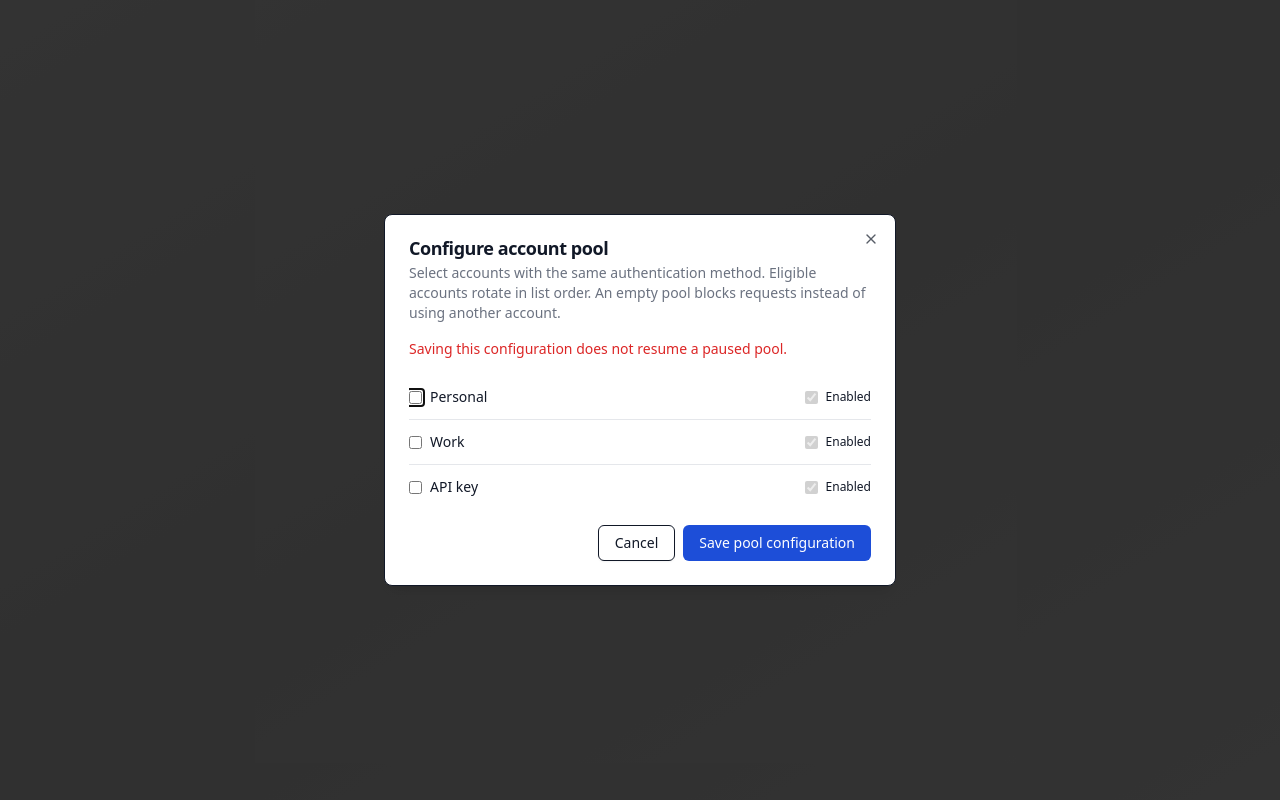
Test: account pool configuration dialog › keeps edits and the dialog on failure without exposing upstream details
The image size is (1280, 800).
Click the checkbox labelled "Personal" at (416, 397), box [409,390,422,404]
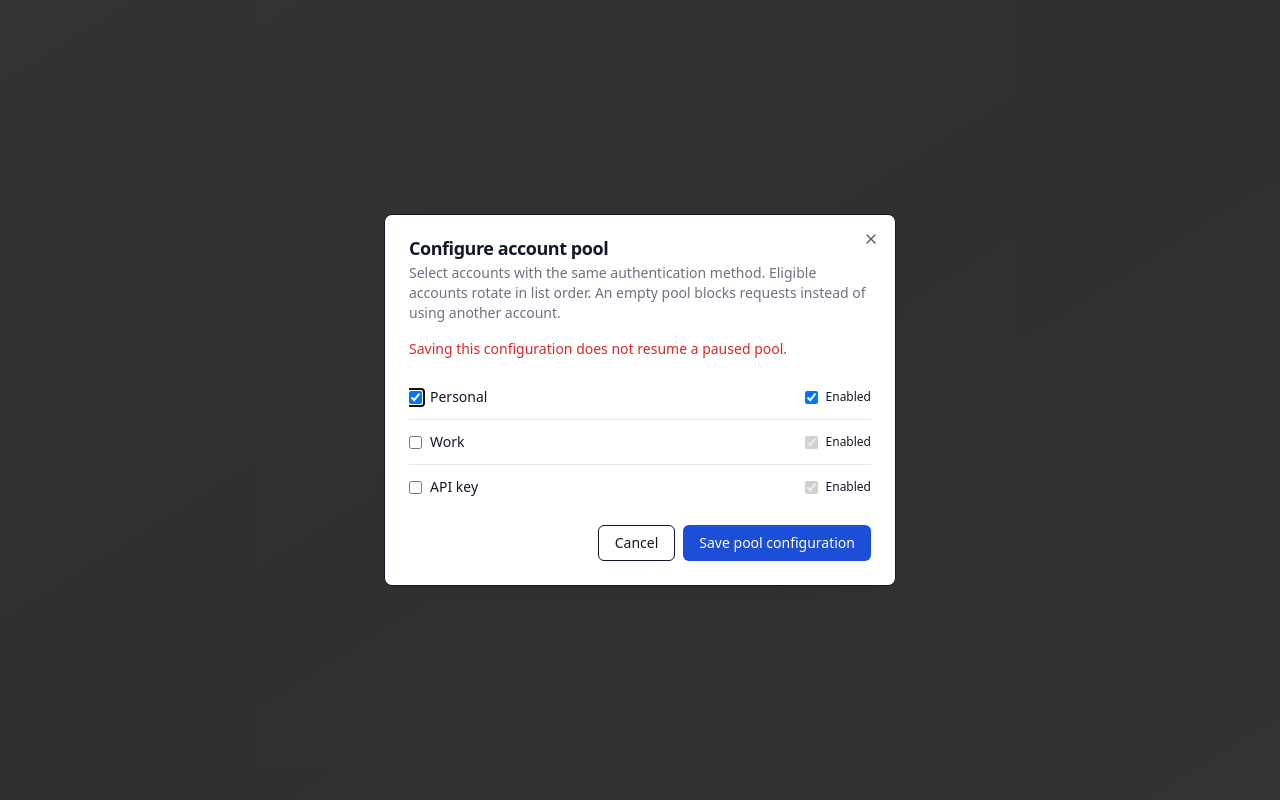
Click the button "Save pool configuration" at (777, 543), box [683,525,871,561]
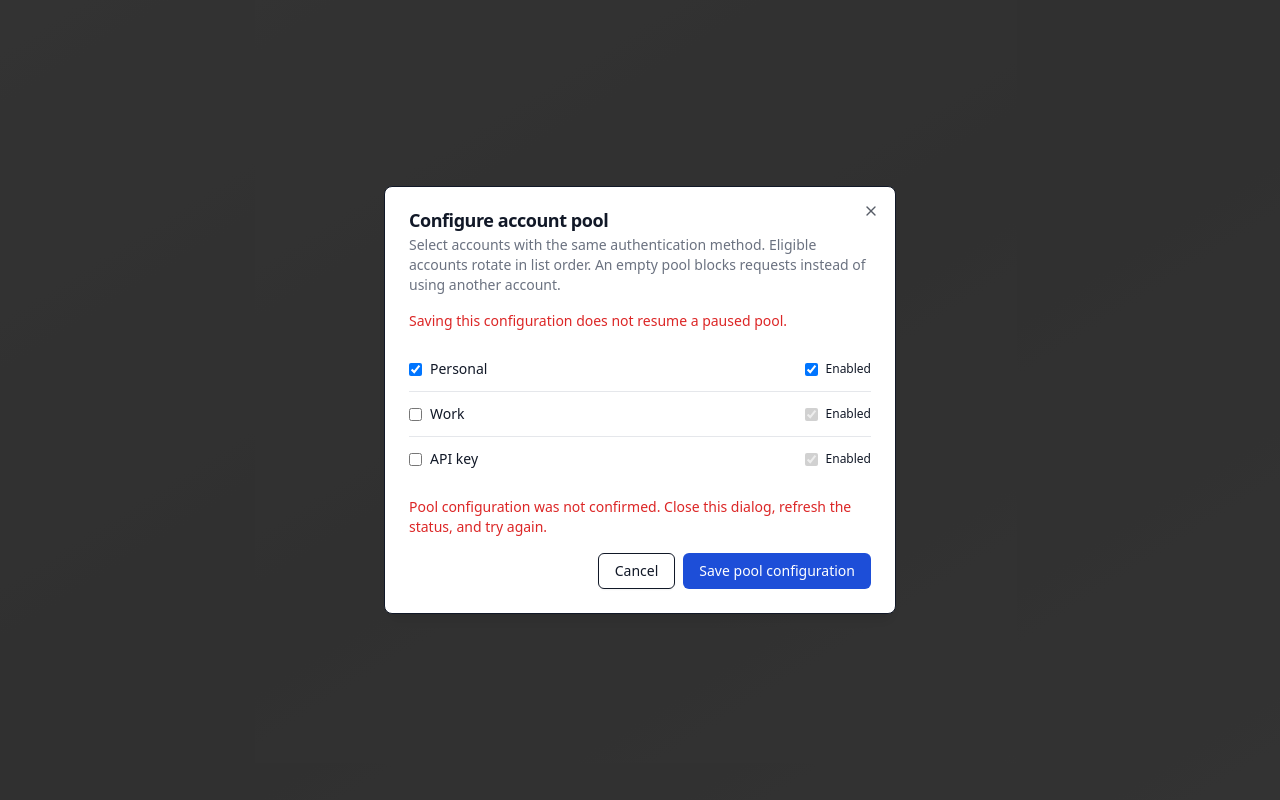
Expected: the number of messages is 2, [409,311,787,330]; [409,497,871,537]
Expected: the checkbox labelled "Personal" is checked, [409,362,422,376]
